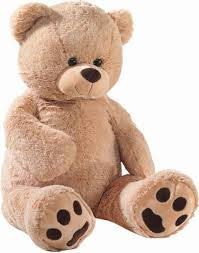teddy: (2, 3, 194, 246)
